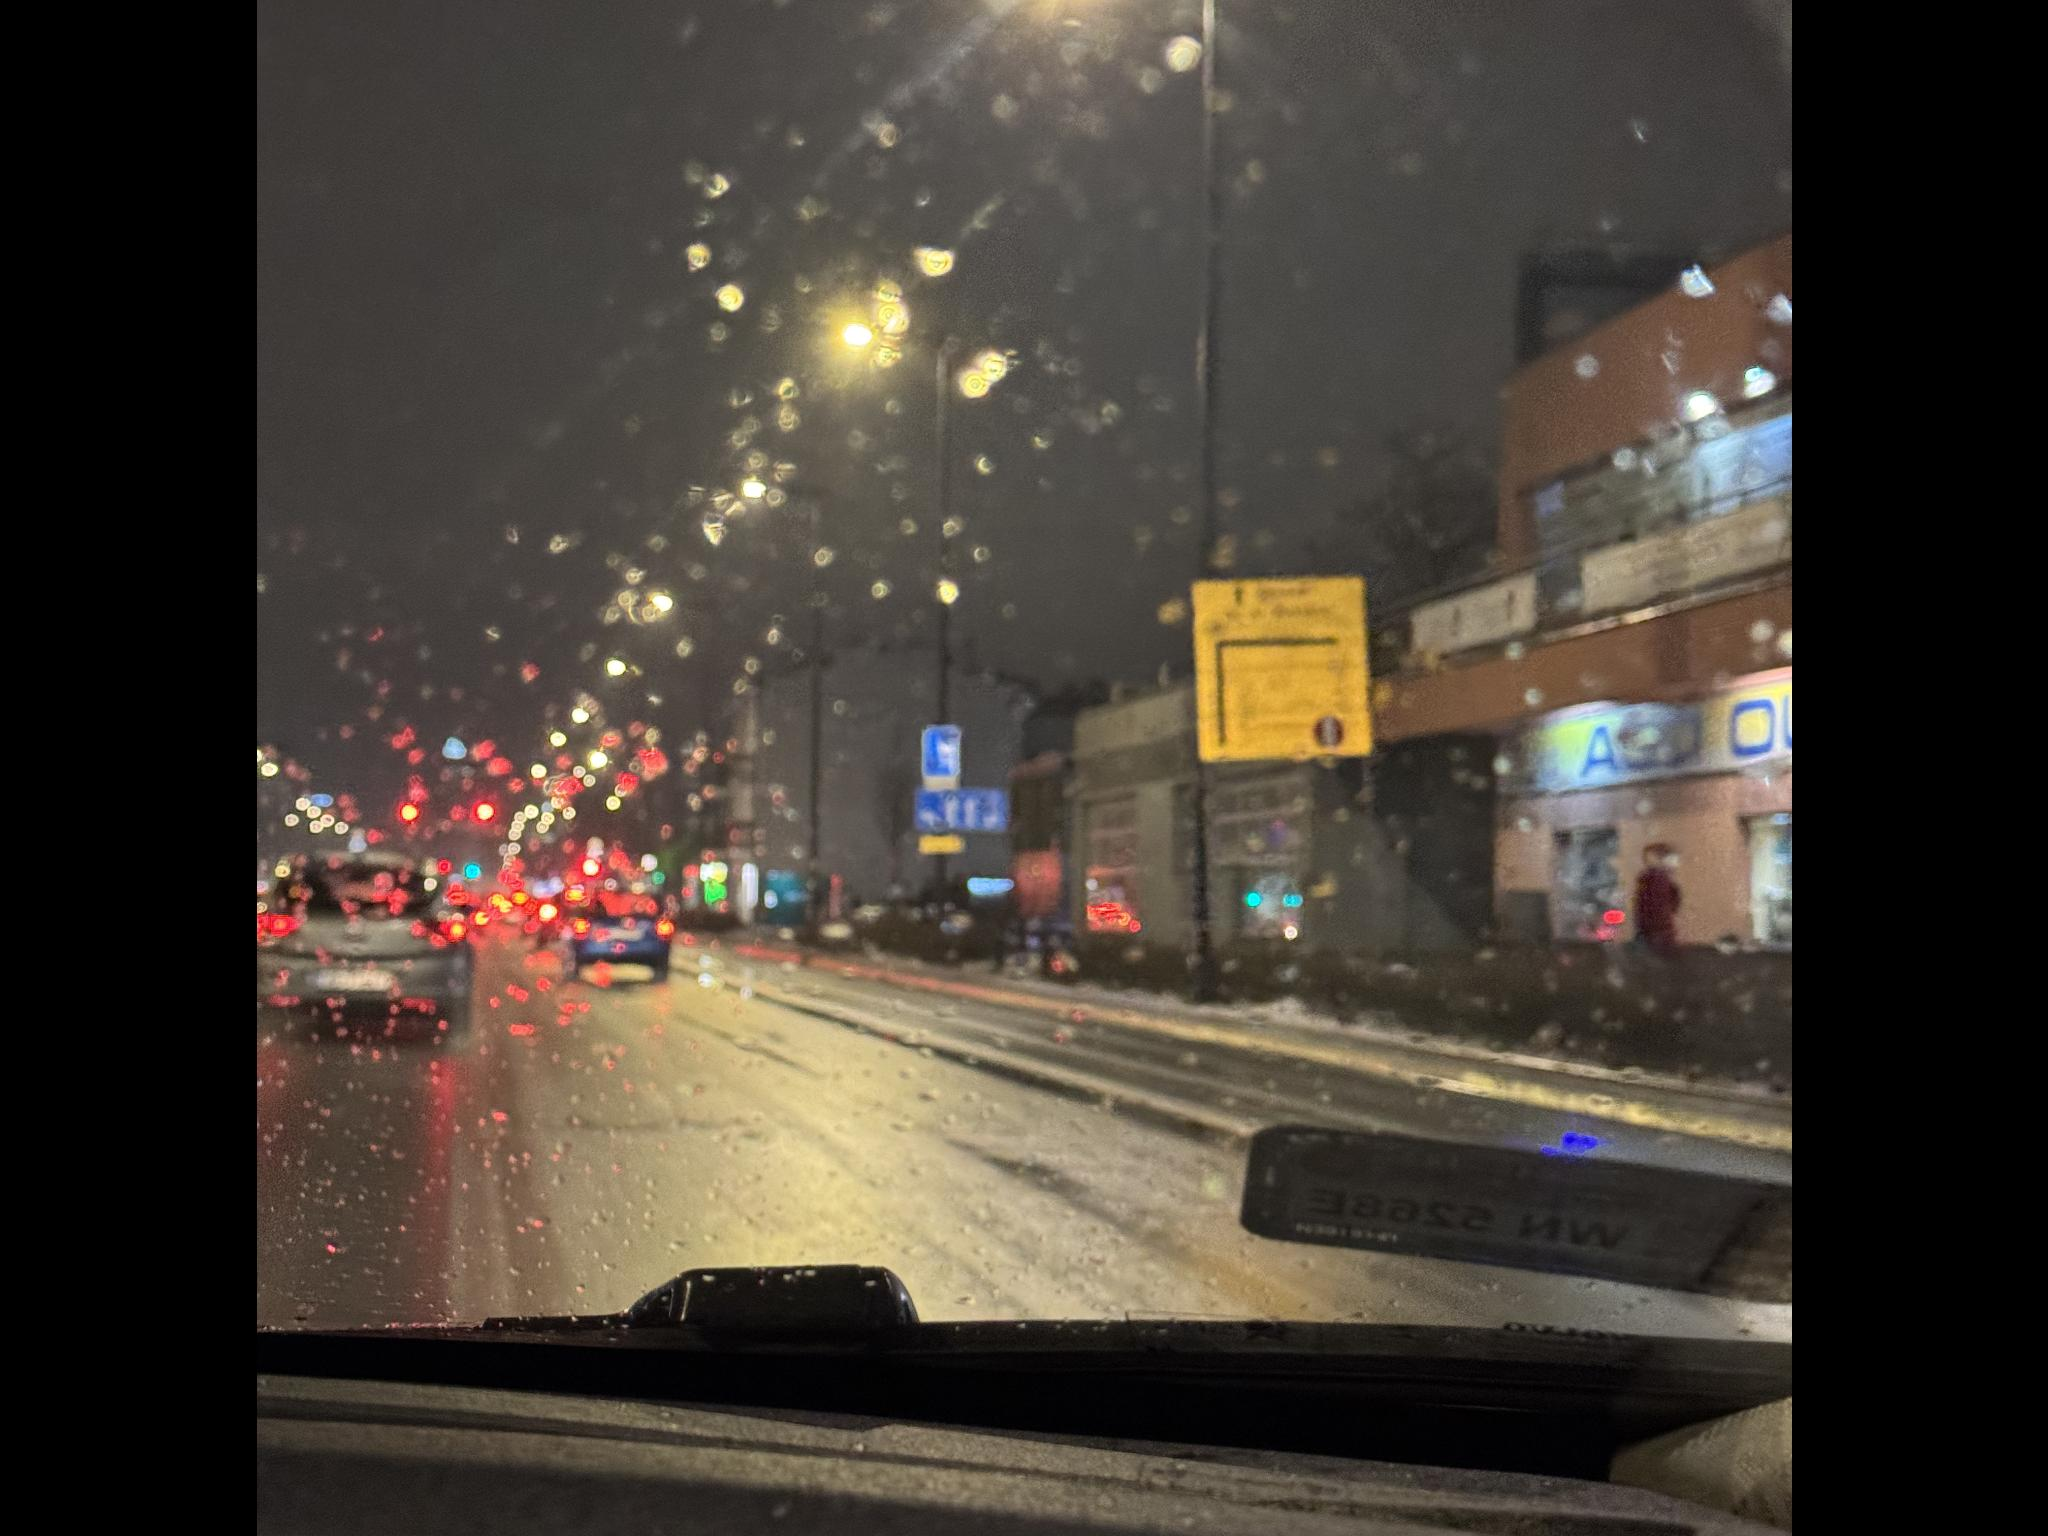other: (705, 402, 750, 494)
